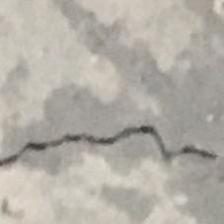Crack: (0, 123, 224, 181)
